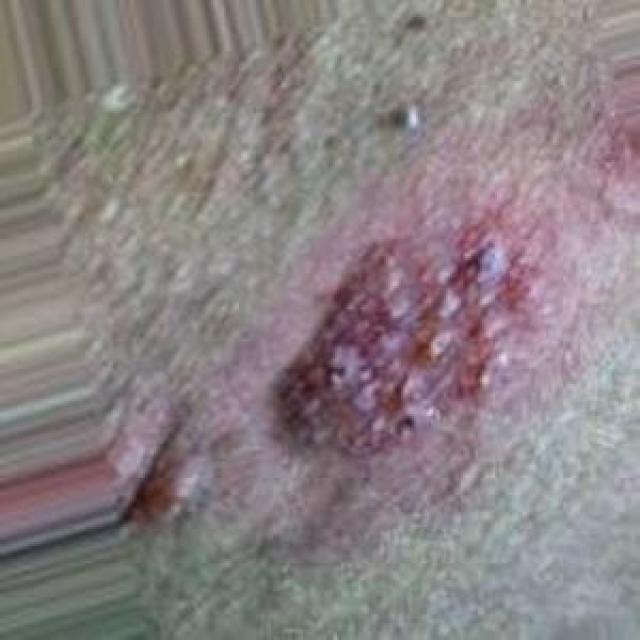Shingles: (275, 223, 550, 449)
